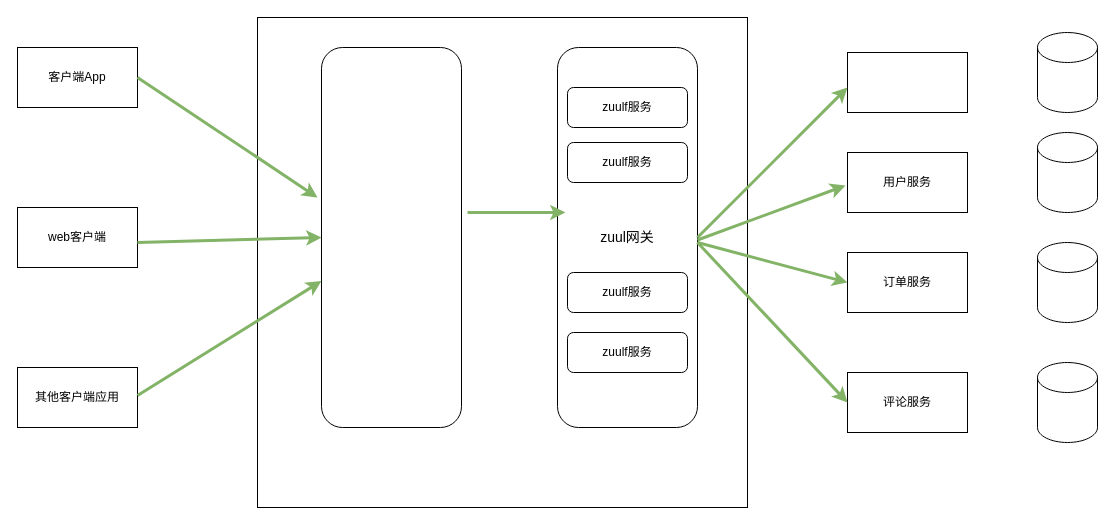
The diagram is 1115 pixels wide and 525 high, and some of its shapes have lost their labels. The shapes that lost their labels are listed below. From the top down, each one's centre as x and y in pixels, then its label:
At (x=907, y=82): "商品服务".
At (x=391, y=237): "nginx+lua 开发网关 （kong） （orange）".
